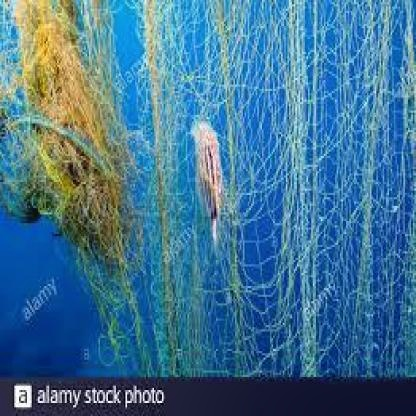net: (12, 2, 416, 374)
